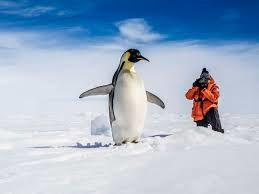emporer: (73, 44, 176, 154)
